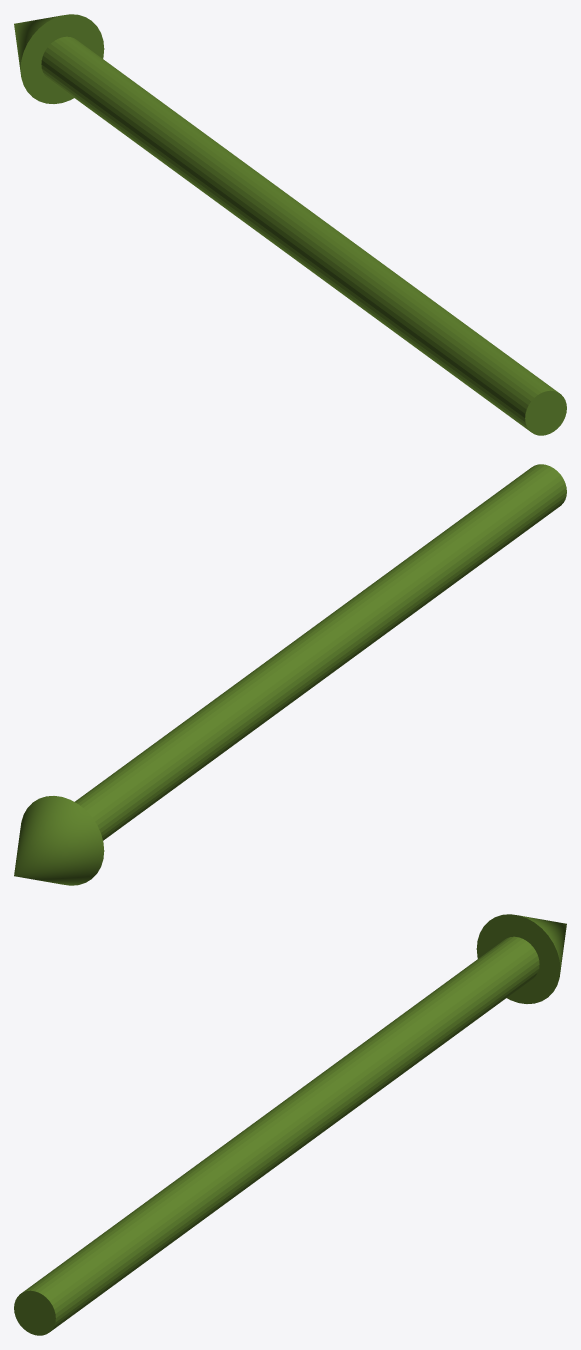
File: GreenYArrow.glb
The picture shows the model from 3 angles, top to bottom: view 1: azimuth 30°, elevation 25°; view 2: azimuth 150°, elevation 25°; view 3: azimuth 330°, elevation 25°; orthographic projection.
Parts seen in each view (by area): view 1: Cylinder, Cone; view 2: Cylinder, Cone; view 3: Cylinder, Cone.
Part boxes in pixels (bbox=[...]): Cylinder: bbox=[41, 36, 566, 435]; Cone: bbox=[14, 14, 104, 103]; Cylinder: bbox=[75, 464, 566, 840]; Cone: bbox=[14, 796, 104, 885]; Cylinder: bbox=[14, 936, 539, 1335]; Cone: bbox=[476, 914, 566, 1003].
Size of the model in its own units: 0.2 by 0.2 by 2.2.
